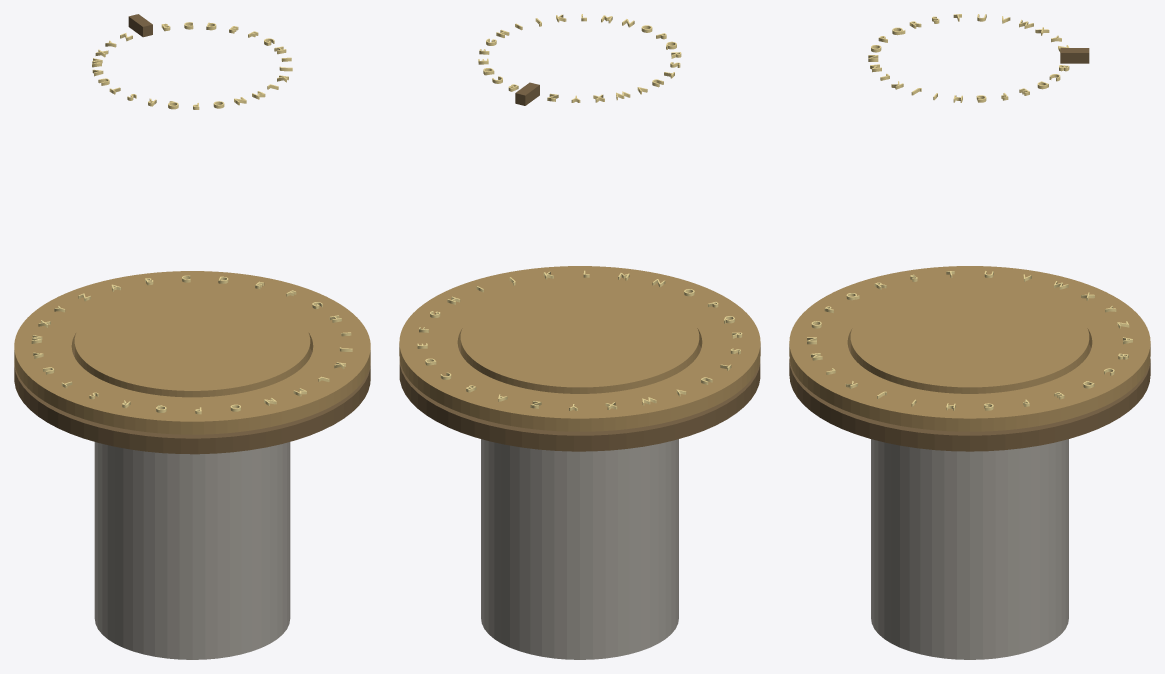
File: CipherDisk.glb
3 views of the same model, side by side, from view 1: azimuth 30°, elevation 25°; view 2: azimuth 150°, elevation 25°; view 3: azimuth 270°, elevation 25° (orthographic).
Visible parts, largest first — view 1: Disk_Pedestal, Disk_OuterRing, InnerDisk, Disk_PedestalCap; view 2: Disk_Pedestal, Disk_OuterRing, InnerDisk, Disk_PedestalCap; view 3: Disk_Pedestal, Disk_OuterRing, InnerDisk, Disk_PedestalCap.
Part boxes in pixels (<box>): Disk_Pedestal: <box>94,442,290,659</box>; Disk_OuterRing: <box>14,271,370,434</box>; InnerDisk: <box>74,291,310,397</box>; Disk_PedestalCap: <box>14,349,370,454</box>; Disk_Pedestal: <box>481,439,678,659</box>; Disk_OuterRing: <box>399,266,760,431</box>; InnerDisk: <box>460,286,699,393</box>; Disk_PedestalCap: <box>399,345,760,451</box>; Disk_Pedestal: <box>871,439,1068,659</box>; Disk_OuterRing: <box>789,266,1150,431</box>; InnerDisk: <box>850,286,1089,393</box>; Disk_PedestalCap: <box>789,344,1150,451</box>.
Bounding box in the file's own units: 1.24 × 2.15 × 1.24.
